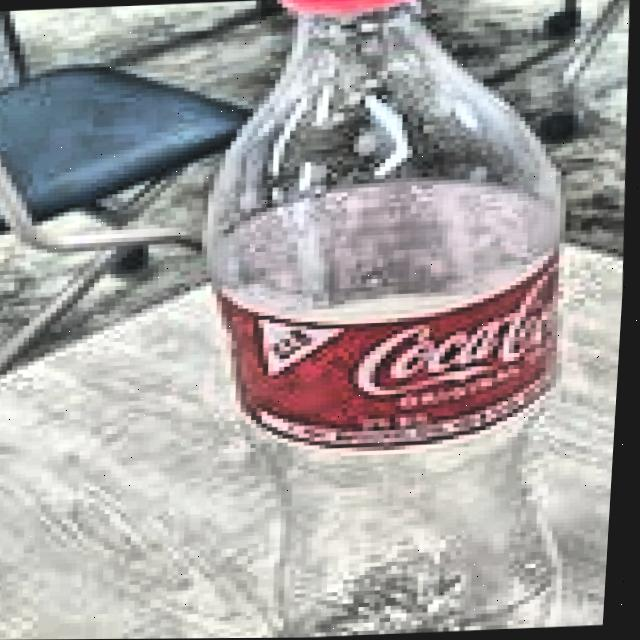plastic: (162, 0, 608, 639)
